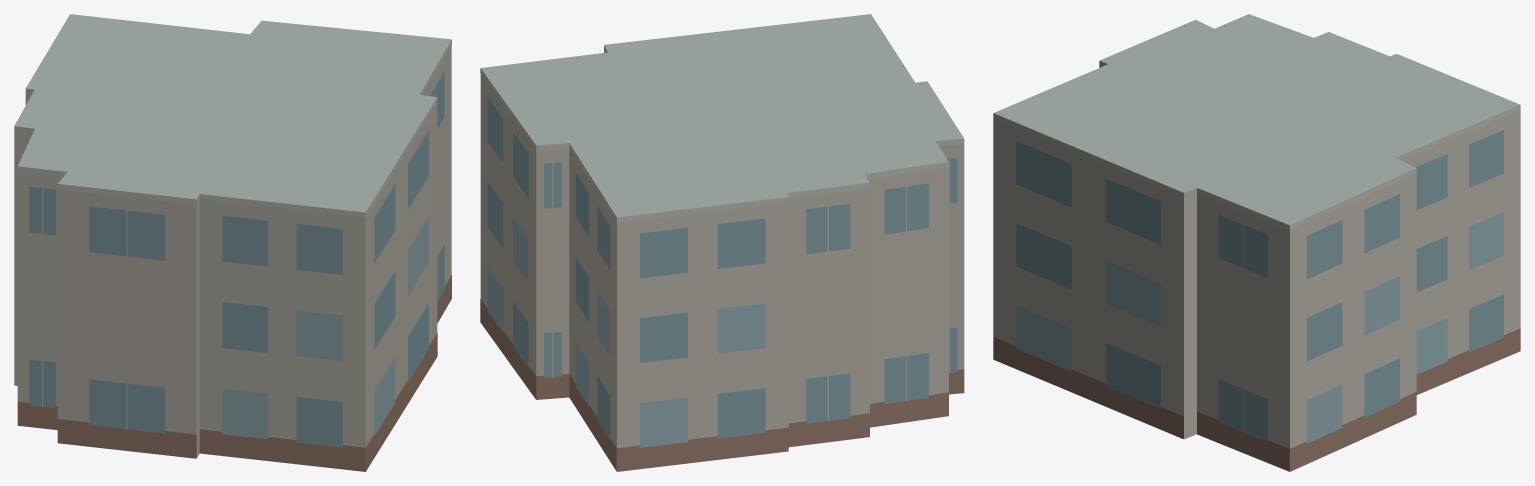
Rendered from survey-upis-32490928.glb.
3 renders of one model, left to right at view 1: azimuth 30°, elevation 25°; view 2: azimuth 150°, elevation 25°; view 3: azimuth 270°, elevation 25°, orthographic. The views are drawn at different scales.
Visible parts, largest first — view 1: survey-upis-32490928.tmp; view 2: survey-upis-32490928.tmp; view 3: survey-upis-32490928.tmp.
Boxes of the visible parts, <box> form: survey-upis-32490928.tmp: <box>14,14,451,471</box>; survey-upis-32490928.tmp: <box>480,14,964,471</box>; survey-upis-32490928.tmp: <box>993,14,1520,471</box>.
Bounding box in the file's own units: 21.06 × 11.45 × 22.19.
